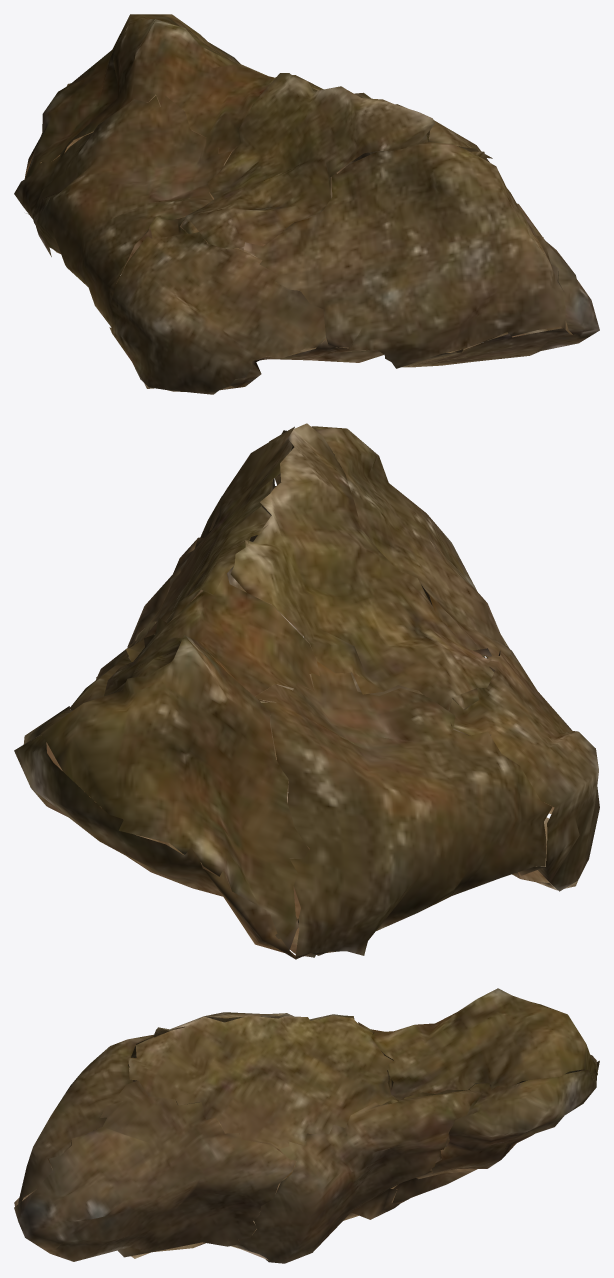
The model's file is stone_00.glb.
3 views of the same model, one above another, from view 1: azimuth 30°, elevation 25°; view 2: azimuth 150°, elevation 25°; view 3: azimuth 270°, elevation 25° (orthographic). The views are drawn at different scales.
Visible parts, largest first — view 1: stone_00; view 2: stone_00; view 3: stone_00.
Boxes of the visible parts, x1,y1,x2,y2 form: stone_00: (14,14,599,394); stone_00: (14,423,599,959); stone_00: (14,988,599,1263).
Bounding box in the file's own units: 2.23 × 1.48 × 3.39.
1 material, 1 textured.
